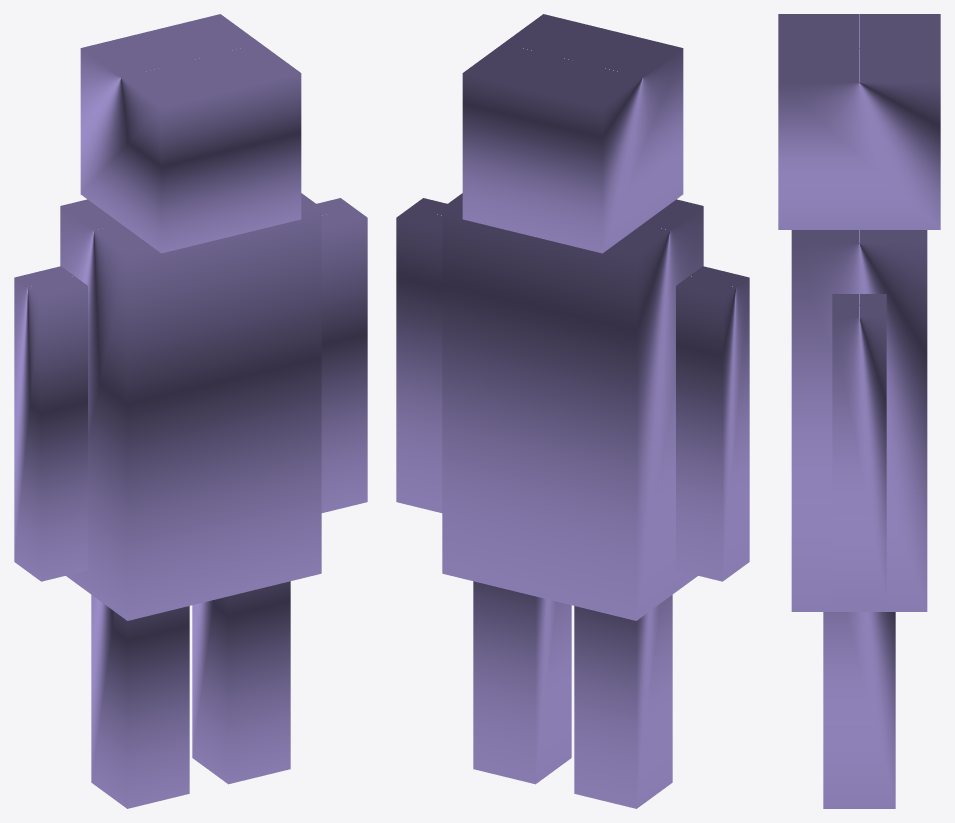
Rendered from WizardRobes.glb.
3 renders of one model, left to right at view 1: azimuth 30°, elevation 25°; view 2: azimuth 150°, elevation 25°; view 3: azimuth 270°, elevation 25°, orthographic.
Visible parts, largest first — view 1: WizardRobes; view 2: WizardRobes; view 3: WizardRobes.
Boxes of the visible parts, x1=… form: WizardRobes: x1=14, y1=14, x2=367, y2=808; WizardRobes: x1=396, y1=14, x2=749, y2=808; WizardRobes: x1=778, y1=14, x2=940, y2=808.
Size of the model in its own units: 0.84 by 1.76 by 0.36.
